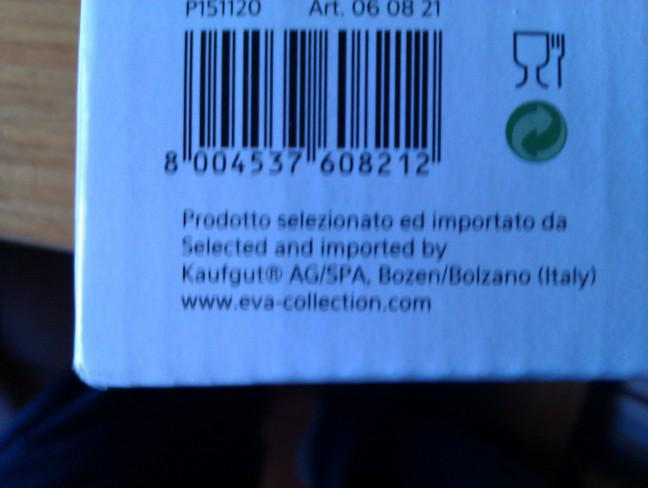Barkod: (130, 26, 466, 182)
